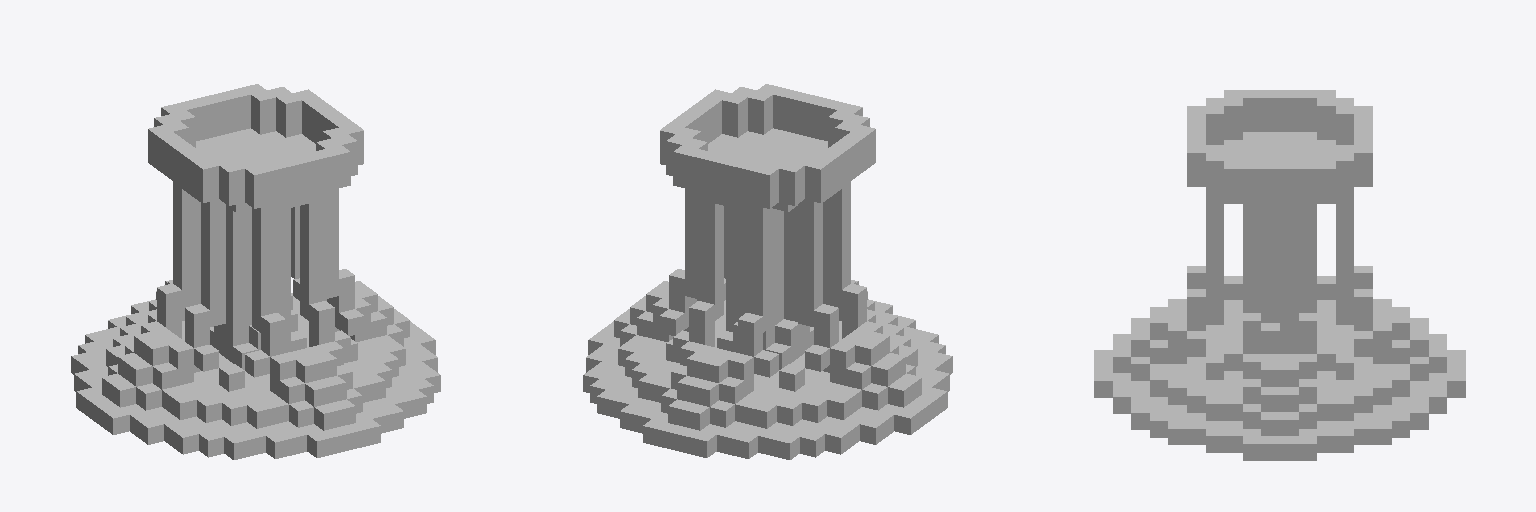
Rendered from VBrazier.obj.
3 views of the same model, side by side, from view 1: azimuth 30°, elevation 25°; view 2: azimuth 150°, elevation 25°; view 3: azimuth 270°, elevation 25° (orthographic).
Parts seen in each view (by area): view 1: untitled; view 2: untitled; view 3: untitled.
Part boxes in pixels (left/top/right/bottom): untitled: left=71, top=84, right=440, bottom=459; untitled: left=583, top=84, right=952, bottom=459; untitled: left=1094, top=90, right=1465, bottom=460.
Size of the model in its own units: 0.9317 by 0.6988 by 0.9317.